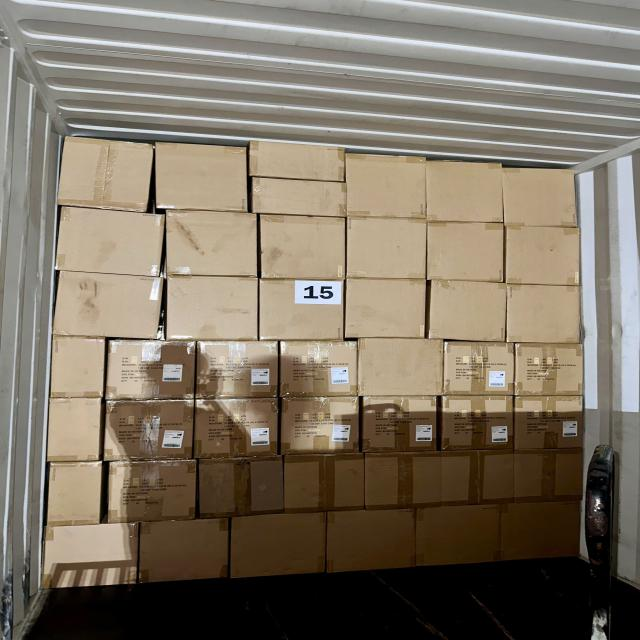Carton: (53, 201, 166, 281), (58, 134, 155, 214), (55, 271, 167, 340), (152, 139, 245, 211), (167, 210, 260, 280), (39, 524, 132, 594), (231, 512, 327, 579), (165, 274, 258, 341), (197, 452, 286, 520), (325, 510, 416, 575), (142, 520, 232, 584), (105, 399, 196, 461), (260, 217, 346, 282), (104, 338, 194, 400), (414, 505, 500, 569), (109, 460, 197, 522), (345, 154, 426, 221), (259, 282, 345, 344), (345, 218, 427, 282), (283, 451, 365, 515), (358, 338, 445, 398), (194, 396, 278, 458), (362, 448, 444, 511), (342, 277, 425, 339), (426, 161, 505, 226), (430, 282, 510, 346), (502, 503, 584, 565), (425, 222, 504, 285), (197, 339, 279, 399), (503, 223, 580, 284), (282, 339, 361, 398), (505, 167, 581, 228), (284, 396, 363, 454), (506, 283, 582, 343), (439, 448, 514, 508), (360, 396, 435, 453), (442, 394, 515, 452), (253, 138, 349, 180), (514, 396, 584, 452), (443, 341, 515, 395), (512, 448, 584, 502), (46, 461, 104, 527), (514, 342, 584, 396), (47, 397, 103, 464), (251, 181, 347, 220), (51, 336, 105, 400)
